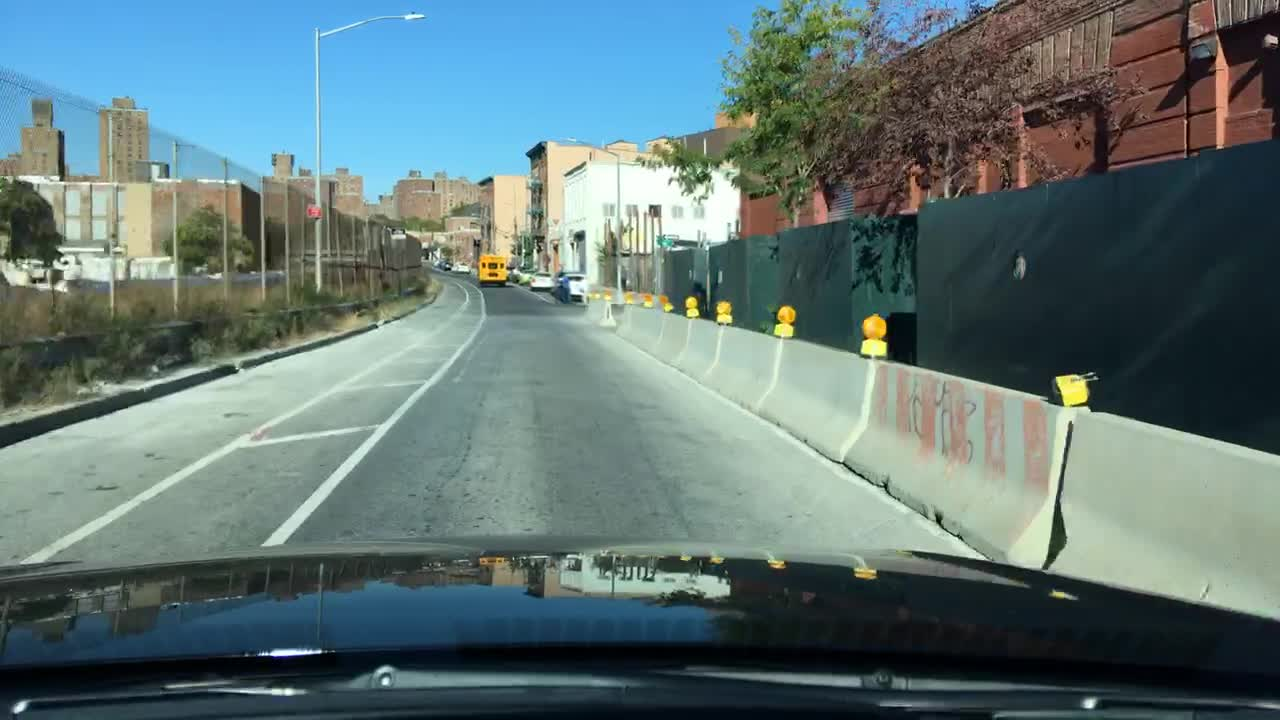bus: (474, 251, 509, 287)
car: (550, 270, 587, 300), (525, 270, 557, 290), (449, 258, 472, 275), (518, 266, 536, 283), (435, 256, 452, 272), (506, 268, 523, 282)
person: (555, 269, 570, 302)
traffic sign: (305, 204, 324, 219)
